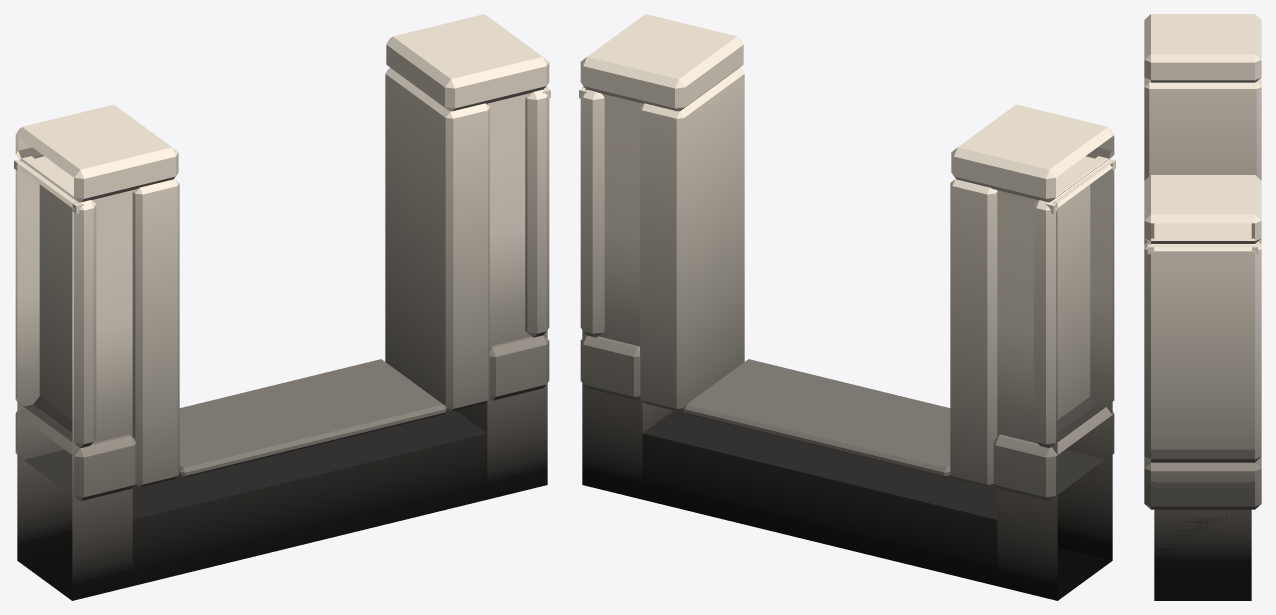
The model's file is SM_VKI_Wall_Wattle_Door_150_Cut.fbx.
3 views of the same model, side by side, from view 1: azimuth 30°, elevation 25°; view 2: azimuth 150°, elevation 25°; view 3: azimuth 270°, elevation 25° (orthographic). The views are drawn at different scales.
Parts seen in each view (by area): view 1: SM_VKI_Wall_Wattle_Door_150_Cut.001; view 2: SM_VKI_Wall_Wattle_Door_150_Cut.001; view 3: SM_VKI_Wall_Wattle_Door_150_Cut.001.
Part boxes in pixels (bbox=[...]): SM_VKI_Wall_Wattle_Door_150_Cut.001: bbox=[14, 14, 550, 600]; SM_VKI_Wall_Wattle_Door_150_Cut.001: bbox=[579, 14, 1115, 600]; SM_VKI_Wall_Wattle_Door_150_Cut.001: bbox=[1144, 14, 1261, 600].
Bounding box in the file's own units: 1.5 × 1.3 × 0.36.
